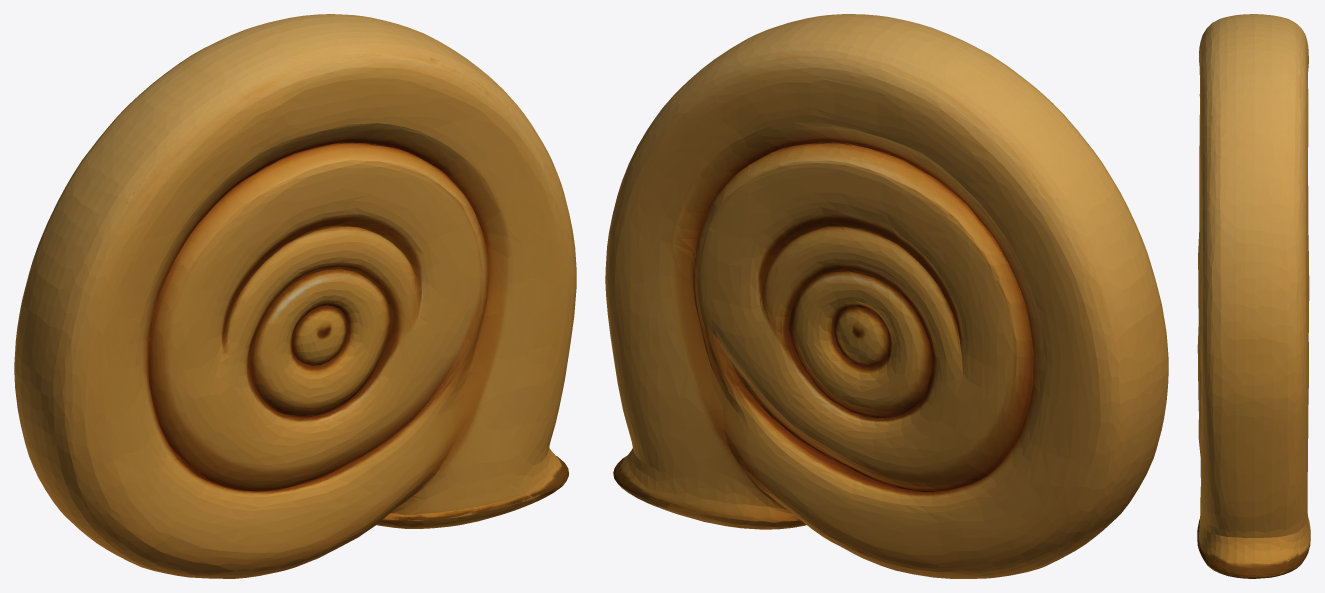
The model's file is shell_1.glb.
3 views of the same model, side by side, from view 1: azimuth 30°, elevation 25°; view 2: azimuth 150°, elevation 25°; view 3: azimuth 270°, elevation 25° (orthographic). The views are drawn at different scales.
Visible parts, largest first — view 1: world; view 2: world; view 3: world.
Part boxes in pixels (left/top/right/bottom): world: left=14, top=14, right=576, bottom=578; world: left=605, top=14, right=1168, bottom=578; world: left=1197, top=14, right=1310, bottom=578.
Bounding box in the file's own units: 1 × 0.942 × 0.2143.
1 material, 1 textured.
